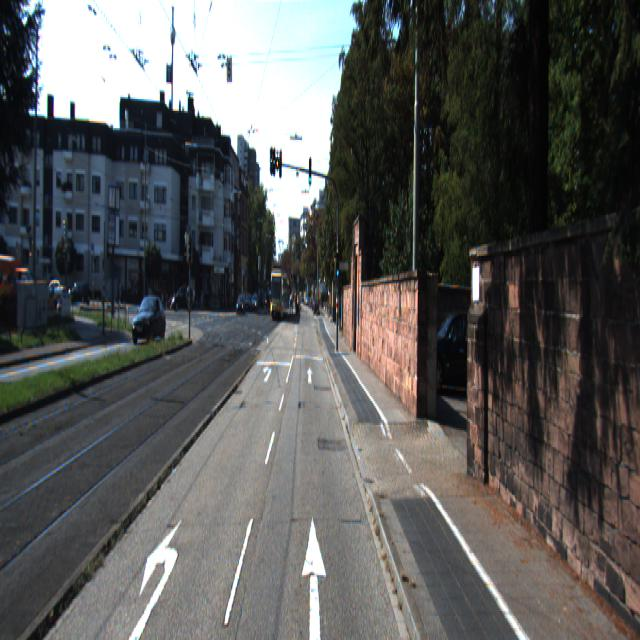Car: (131, 295, 166, 345)
